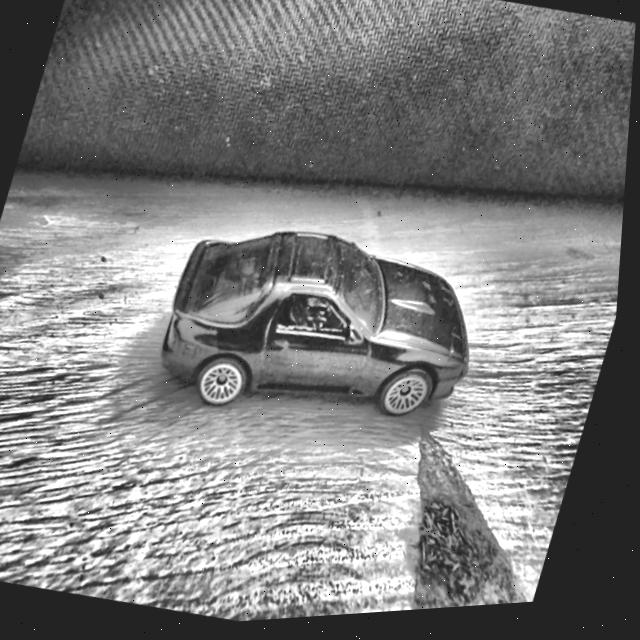car: (147, 197, 508, 467)
